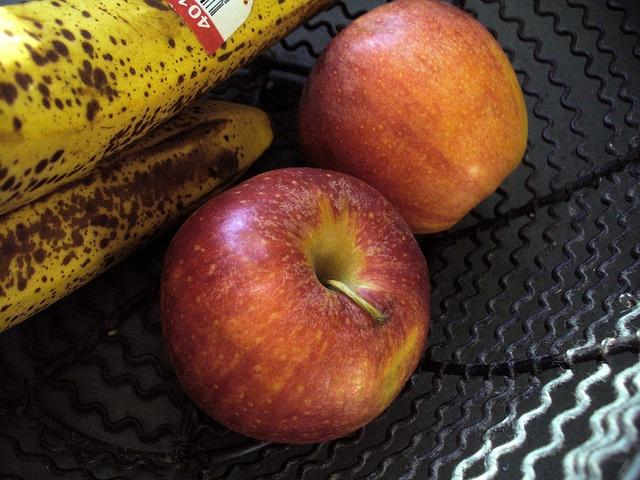apple: (158, 167, 432, 444), (296, 1, 530, 234)
banana: (2, 3, 328, 214), (0, 100, 274, 330)
